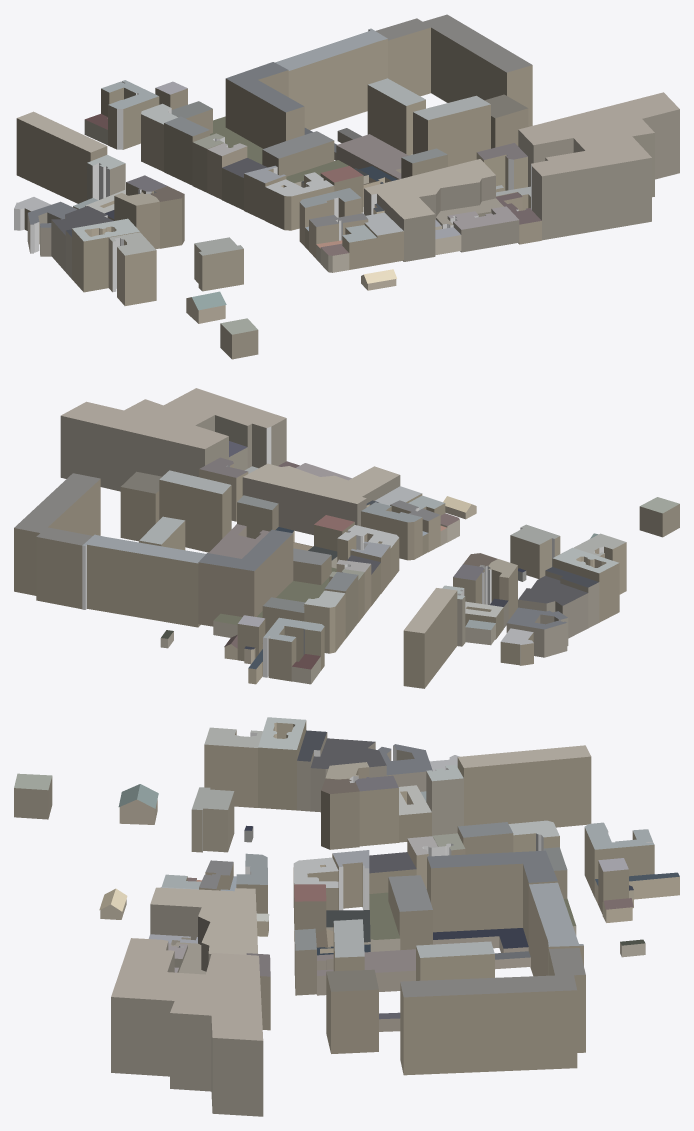
3 renders of one model, top to bottom at view 1: azimuth 30°, elevation 25°; view 2: azimuth 150°, elevation 25°; view 3: azimuth 270°, elevation 25°, orthographic. The views are drawn at different scales.
Visible parts, largest first — view 1: tuile; view 2: tuile; view 3: tuile.
Boxes of the visible parts, x1,y1,x2,y2 form: tuile: [14, 14, 679, 359]; tuile: [14, 388, 679, 688]; tuile: [14, 717, 679, 1116].
Size of the model in its own units: 301 by 34.33 by 253.
